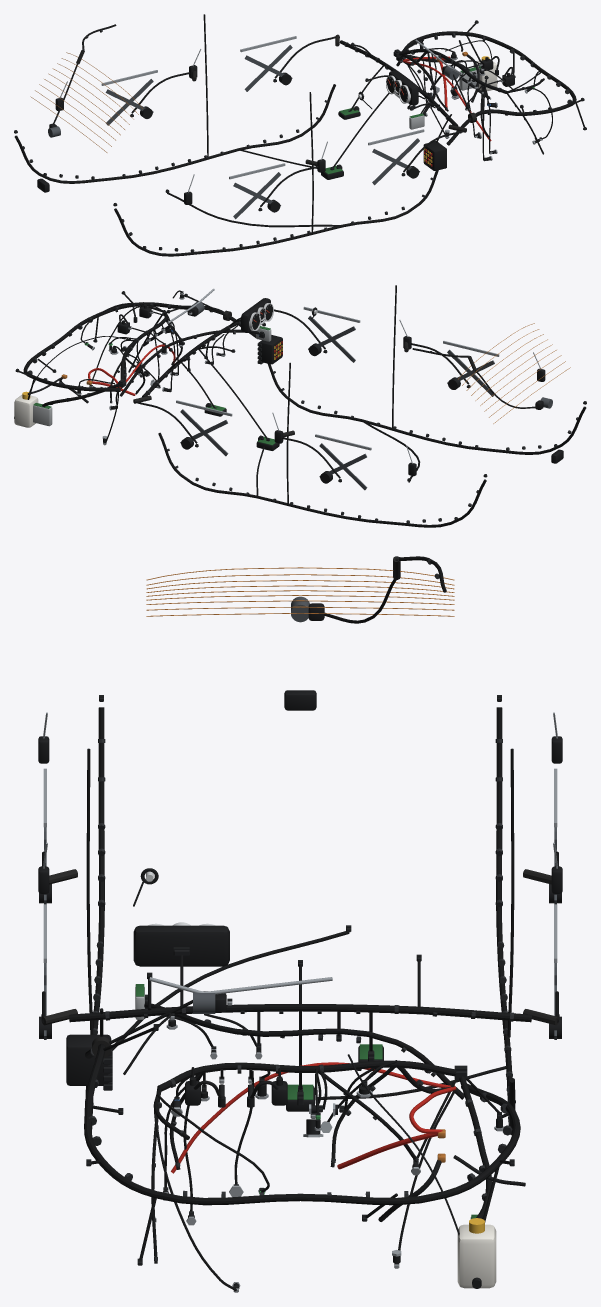
Rendered from electrico.glb.
3 renders of one model, top to bottom at view 1: azimuth 30°, elevation 25°; view 2: azimuth 150°, elevation 25°; view 3: azimuth 270°, elevation 25°, orthographic. The views are drawn at different scales.
Visible parts, largest first — view 1: mazo_piso, mazo_principal, levantavidrios_der, levantavidrios_izq, mazo_motor, mazo_tablero, mazo_puertas, desempanador, cuadro_instrumentos, cerraduras, cable_bateria, bloque_empalmes (+4 smaller); view 2: mazo_piso, mazo_principal, levantavidrios_izq, levantavidrios_der, mazo_motor, mazo_tablero, mazo_puertas, lavador, desempanador, cuadro_instrumentos, cerraduras, bloque_empalmes (+5 smaller); view 3: mazo_piso, mazo_principal, mazo_motor, mazo_tablero, cuadro_instrumentos, desempanador, lavador, cable_bateria, cerraduras, cable_eps, bloque_empalmes, motor_limpiaparabrisas (+4 smaller).
Part boxes in pixels (left/top/right/bottom): mazo_piso: left=14, top=14, right=438, bottom=256; mazo_principal: left=396, top=20, right=586, bottom=145; levantavidrios_der: left=229, top=129, right=424, bottom=219; levantavidrios_izq: left=101, top=36, right=296, bottom=125; mazo_motor: left=393, top=48, right=544, bottom=154; mazo_tablero: left=330, top=40, right=458, bottom=170; mazo_puertas: left=130, top=34, right=466, bottom=211; desempanador: left=30, top=52, right=142, bottom=152; cuadro_instrumentos: left=386, top=70, right=418, bottom=105; cerraduras: left=37, top=49, right=327, bottom=204; cable_bateria: left=403, top=40, right=491, bottom=141; bloque_empalmes: left=423, top=140, right=446, bottom=170; mazo_piso: left=158, top=285, right=586, bottom=527; mazo_principal: left=15, top=291, right=255, bottom=399; levantavidrios_izq: left=176, top=400, right=371, bottom=490; levantavidrios_der: left=303, top=306, right=499, bottom=396; mazo_motor: left=42, top=304, right=182, bottom=406; mazo_tablero: left=142, top=317, right=269, bottom=441; mazo_puertas: left=133, top=309, right=470, bottom=482; lavador: left=14, top=336, right=130, bottom=427; desempanador: left=457, top=323, right=570, bottom=423; cuadro_instrumentos: left=241, top=298, right=273, bottom=332; cerraduras: left=272, top=320, right=563, bottom=476; bloque_empalmes: left=257, top=335, right=282, bottom=364; mazo_piso: left=85, top=695, right=515, bottom=1135; mazo_principal: left=84, top=1000, right=520, bottom=1265; mazo_motor: left=151, top=1060, right=492, bottom=1263; mazo_tablero: left=69, top=954, right=531, bottom=1091; cuadro_instrumentos: left=133, top=922, right=229, bottom=966; desempanador: left=146, top=567, right=454, bottom=616; lavador: left=347, top=1054, right=496, bottom=1288; cable_bateria: left=171, top=1062, right=525, bottom=1221; cerraduras: left=38, top=690, right=562, bottom=893; cable_eps: left=144, top=1002, right=464, bottom=1099; bloque_empalmes: left=66, top=1034, right=112, bottom=1090; motor_limpiaparabrisas: left=149, top=977, right=332, bottom=1013.
Size of the model in its own units: 3.64 by 1.26 by 1.63.
